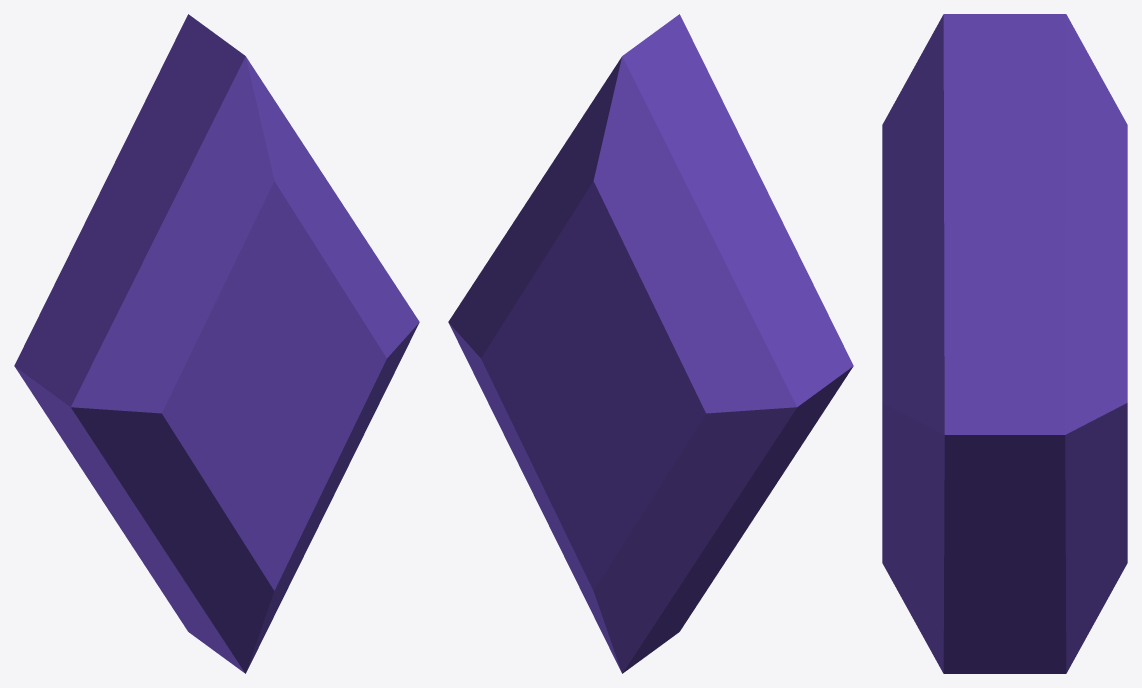
File: Gem_3-2.fbx
3 views of the same model, side by side, from view 1: azimuth 30°, elevation 25°; view 2: azimuth 150°, elevation 25°; view 3: azimuth 270°, elevation 25° (orthographic). The views are drawn at different scales.
Visible parts, largest first — view 1: Gem_3-2; view 2: Gem_3-2; view 3: Gem_3-2.
Part boxes in pixels (x1,y1,x2,y2): Gem_3-2: (14,14,419,673); Gem_3-2: (448,14,853,673); Gem_3-2: (882,14,1127,673).
Bounding box in the file's own units: 44.72 × 75.64 × 25.49.
